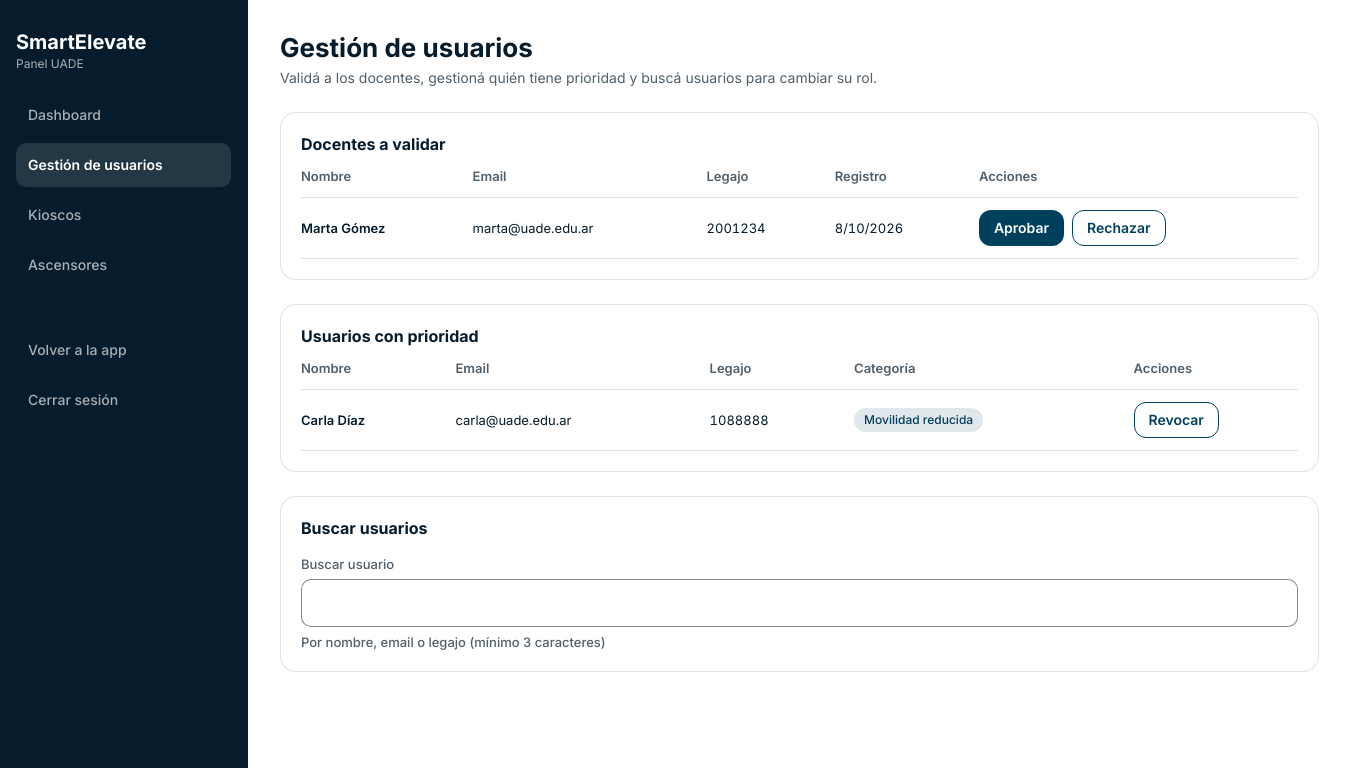
Test: AdminPriorityPage › aprobar saca al docente de la cola y lo suma a los prioritarios
Click the button with aria-label "Aprobar a Marta Gómez": click(1022, 228) x1=979 y1=210 x2=1064 y2=246
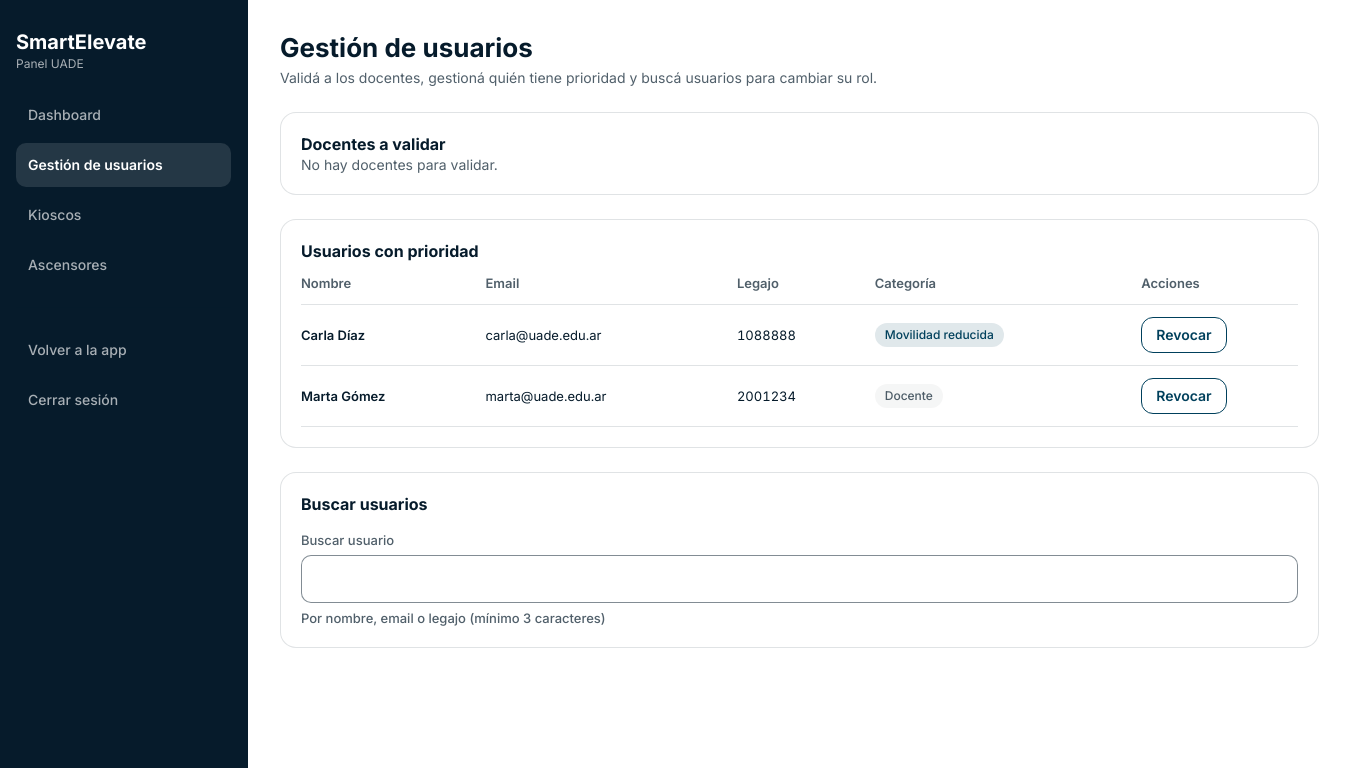
Check: the text "No hay docentes para validar." is shown, box x1=301 y1=156 x2=498 y2=173
Check: the text "Docente" is shown, box x1=875 y1=384 x2=943 y2=408
